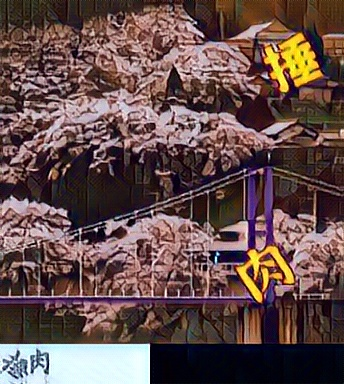B4B7: (261, 30, 323, 94)
C8E2: (235, 243, 297, 307)
